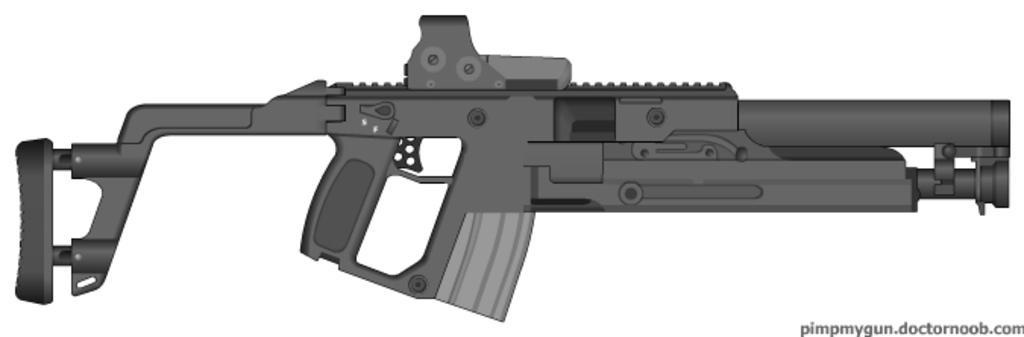gun: (14, 17, 1012, 324)
